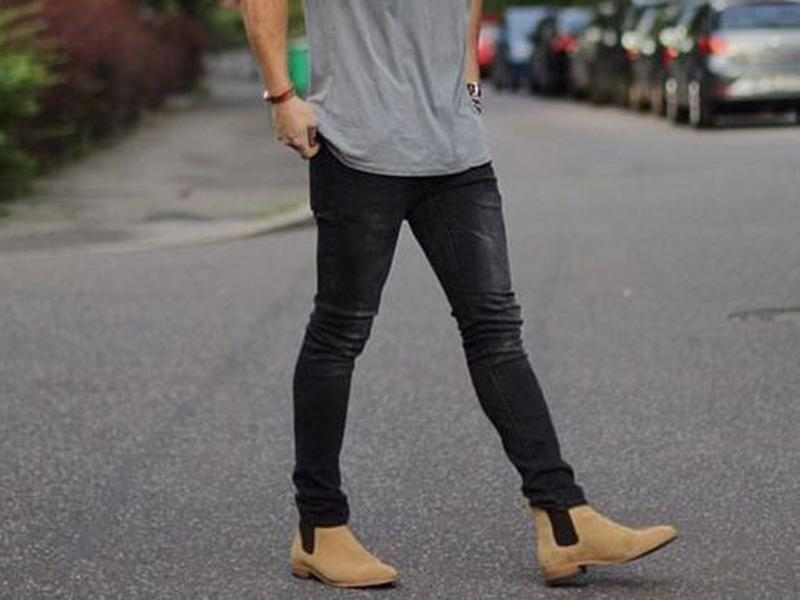shoes_men_chelsea_chelseaboots_suede_none_none_beige_none: (504, 481, 689, 585), (271, 507, 428, 597)
